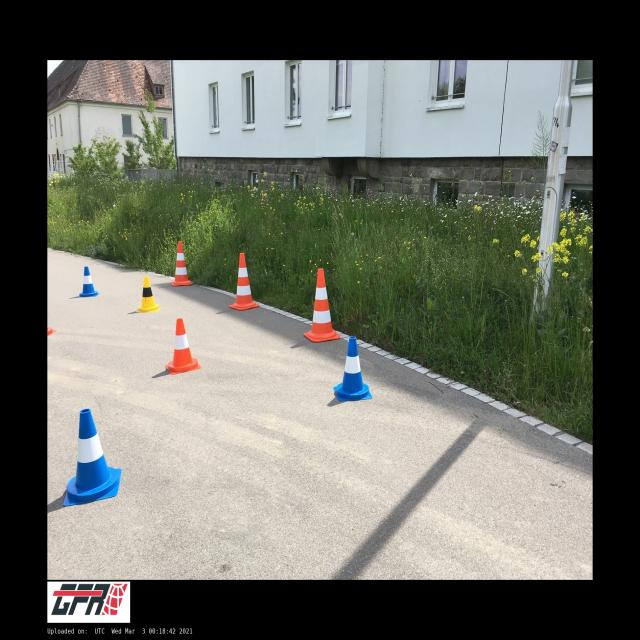blue_cone: (61, 409, 120, 506), (334, 337, 372, 401), (79, 267, 99, 297)
large_orange_cone: (304, 268, 340, 342), (230, 253, 259, 310), (172, 242, 191, 286)
orange_cone: (165, 318, 201, 374), (48, 315, 58, 335)
yellow_cone: (135, 276, 161, 312)
